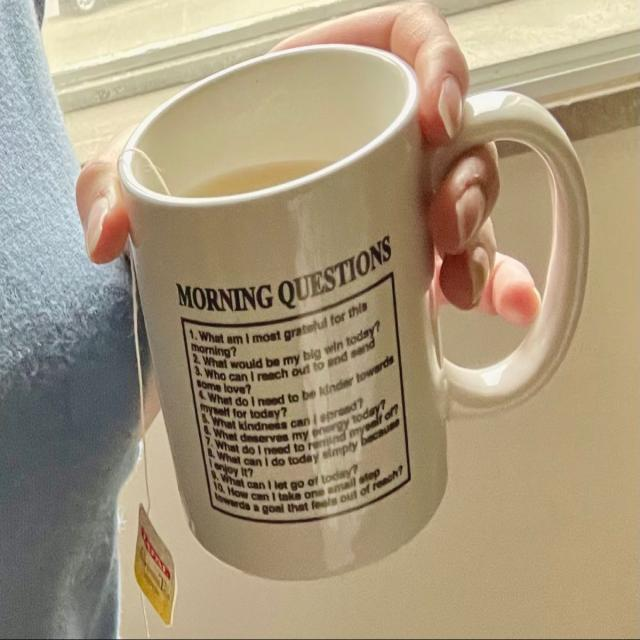glass cup: (119, 43, 590, 580)
